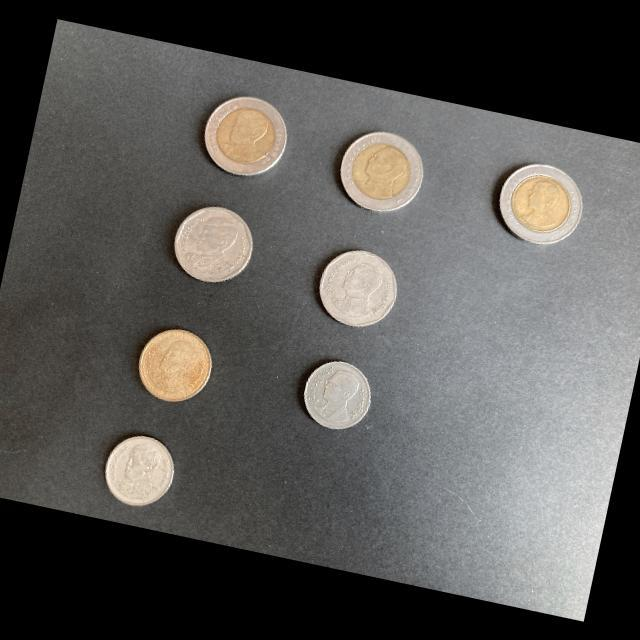1 Bath: (300, 355, 378, 435), (107, 433, 178, 510)
10 Bath: (496, 160, 588, 248), (338, 131, 428, 216), (204, 96, 289, 180)
2 Bath: (136, 326, 218, 407)
5 Bath: (173, 204, 258, 287), (318, 249, 403, 332)
